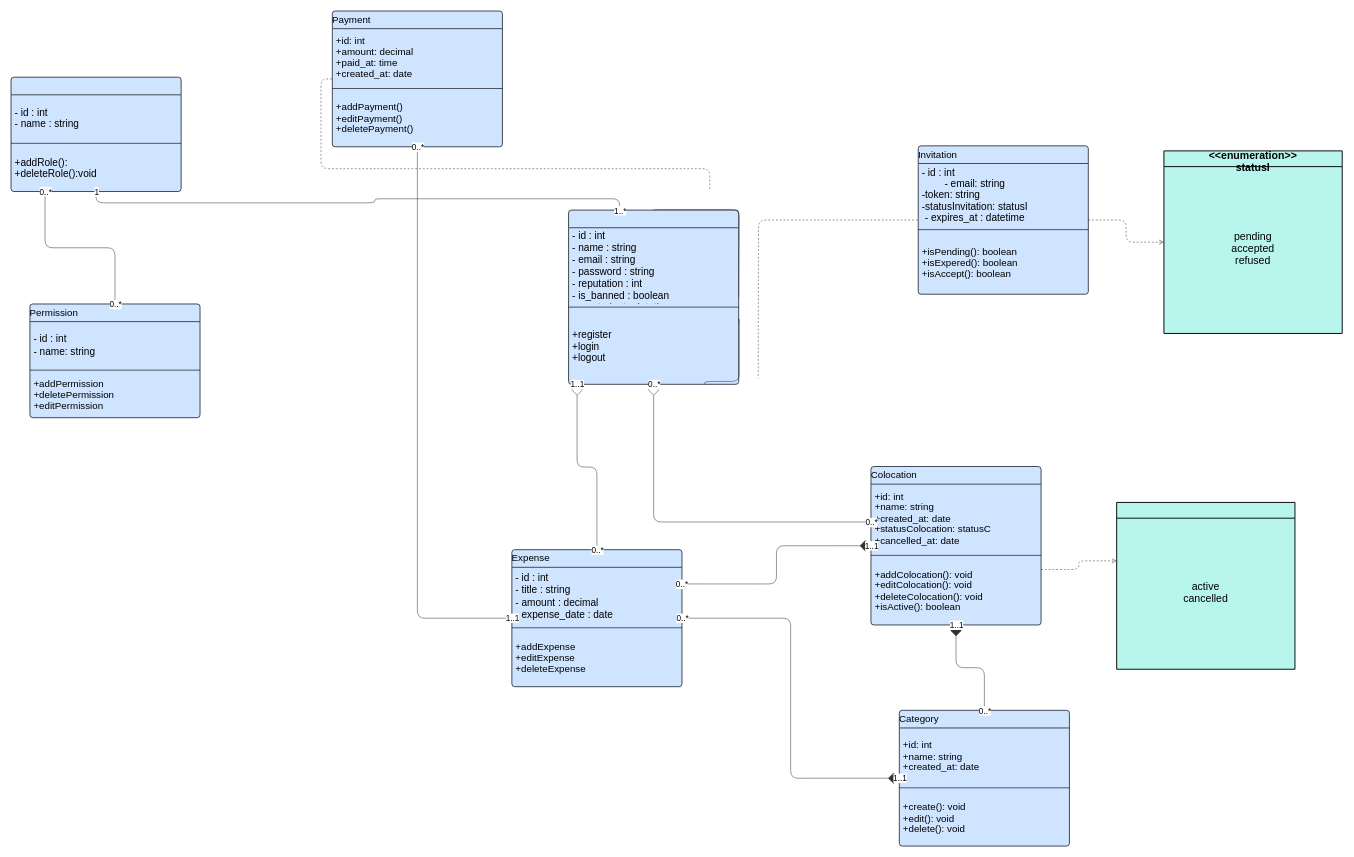
This 1354x857 diagram has some shape labels left out. The shapes that lost their labels are listed below. From the top down, each one's box as (x1, y1, x2, y2) in pixels, then its label:
(10, 76, 181, 192): Roles
(568, 209, 739, 384): Person
(1116, 502, 1295, 669): <<enumeration>> statusC
